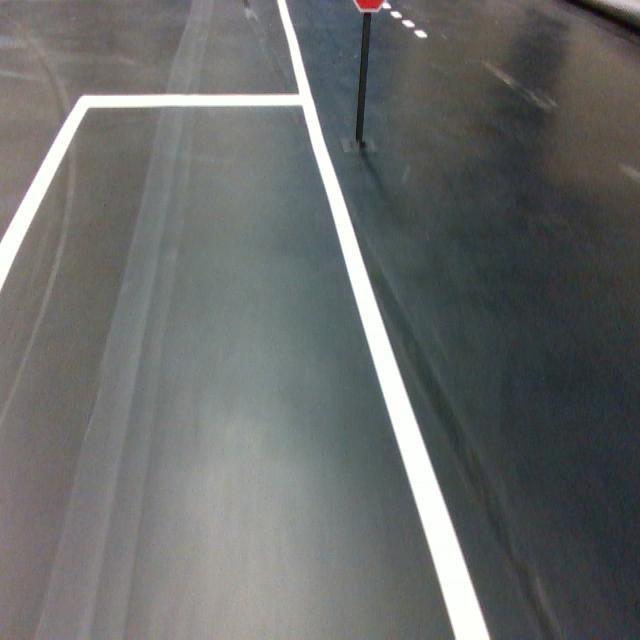stop-sign: (352, 0, 386, 13)
